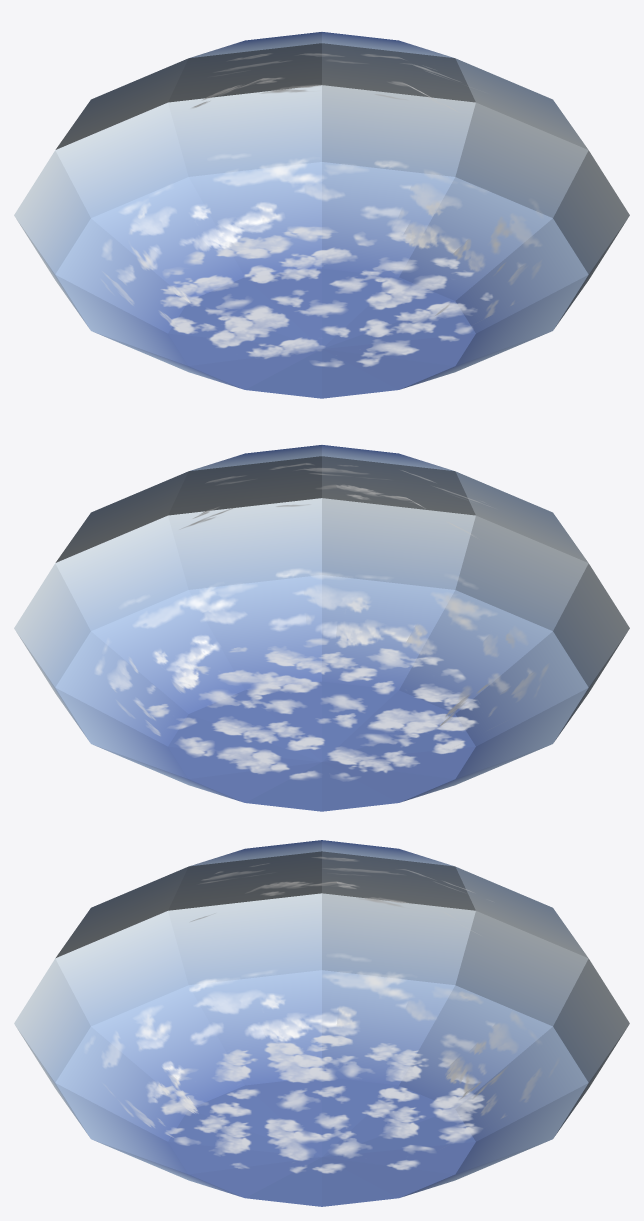
File: glf_sky__glf_sky2.glb
3 renders of one model, top to bottom at view 1: azimuth 30°, elevation 25°; view 2: azimuth 150°, elevation 25°; view 3: azimuth 270°, elevation 25°, orthographic.
Parts seen in each view (by area): view 1: polygon0, polygon3, polygon2, polygon1; view 2: polygon0, polygon3, polygon2, polygon1; view 3: polygon0, polygon3, polygon2, polygon1.
Part boxes in pixels (x1,y1,x2,y2): polygon0: [14, 32, 629, 398]; polygon3: [161, 226, 492, 367]; polygon2: [102, 53, 541, 329]; polygon1: [131, 77, 512, 315]; polygon0: [14, 445, 629, 811]; polygon3: [147, 638, 478, 780]; polygon2: [95, 463, 548, 735]; polygon1: [129, 484, 514, 726]; polygon0: [14, 840, 629, 1206]; polygon3: [156, 1035, 484, 1173]; polygon2: [85, 857, 558, 1137]; polygon1: [136, 881, 507, 1113].
Size of the model in its own units: 12255 by 5874 by 12255.
Materials: 4 (4 with a texture image).
